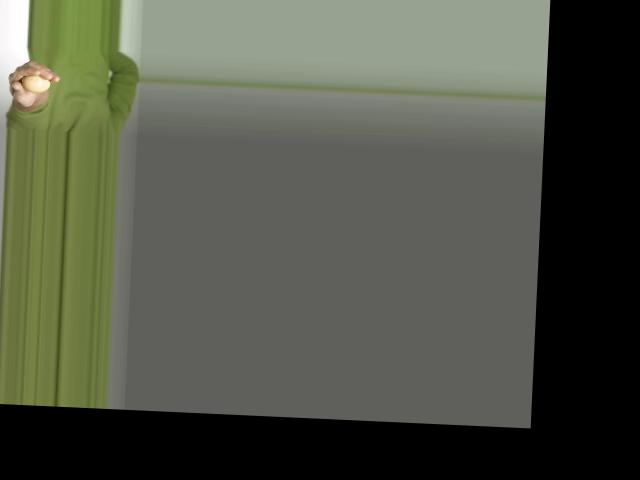egg: (21, 74, 51, 92)
